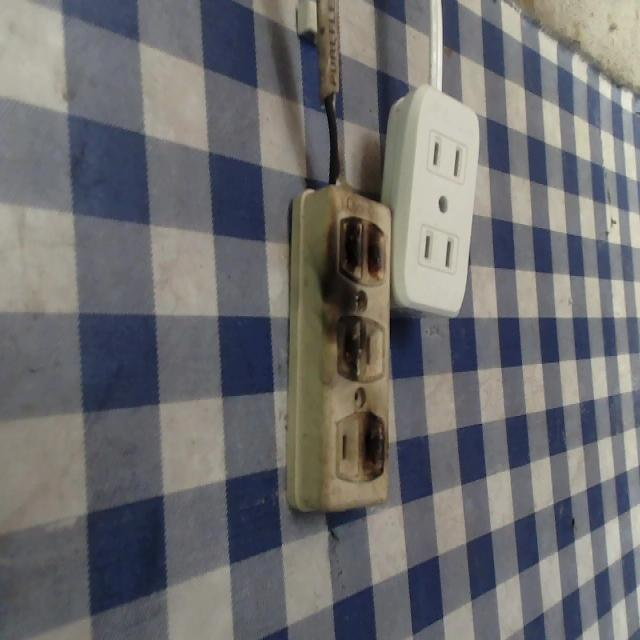-: (326, 207, 400, 292), (323, 308, 366, 388), (357, 402, 391, 487)
